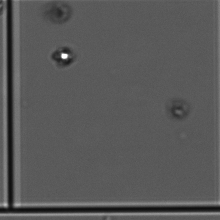Dead Cell: (49, 3, 70, 21), (170, 101, 188, 119)
Living Cell: (50, 44, 75, 66)
